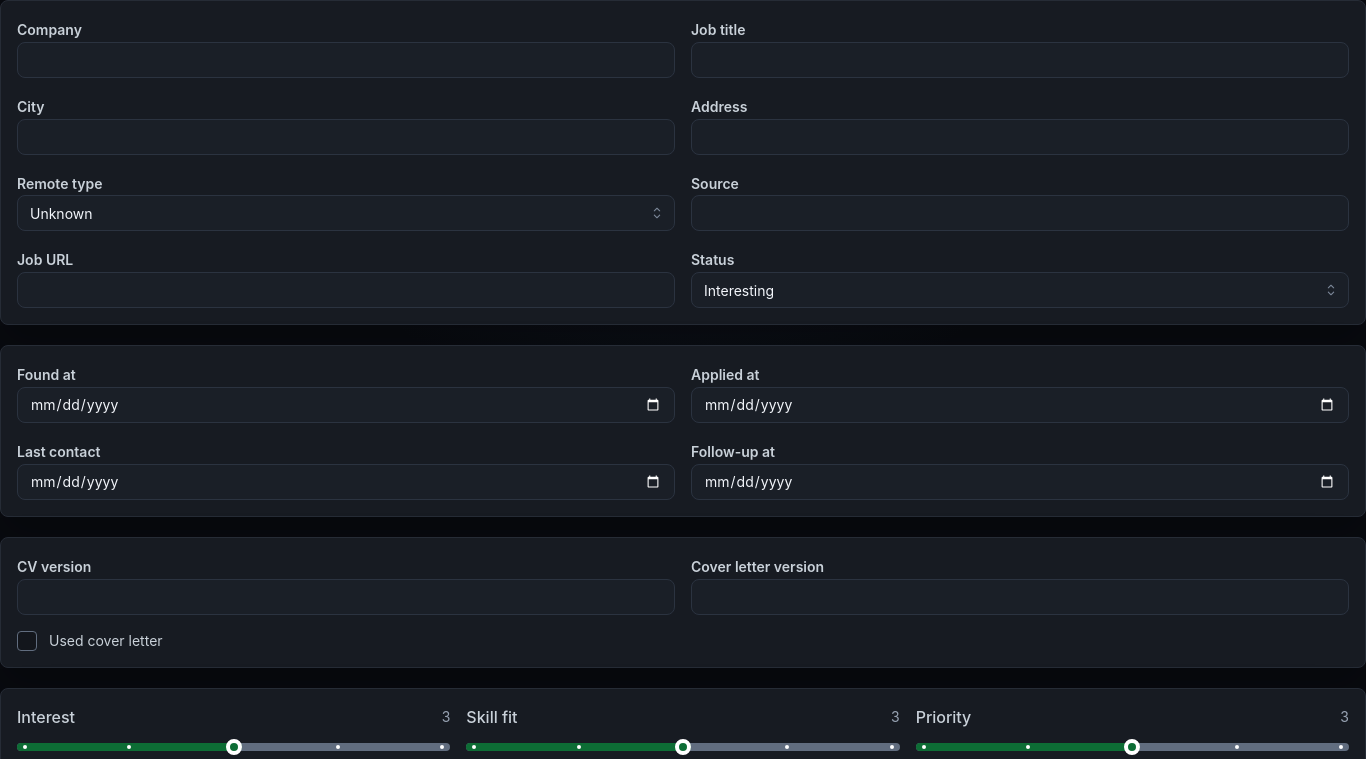
Scenario: ApplicationForm › fills Applied at with today's date when status changes to applied
This screenshot has width=1366, height=759.
Expected: the date field labelled "Applied at" is empty, [691,387,1349,423]
Click the dropdown labelled "Status" at x=1020, y=290, box [691,272,1349,308]
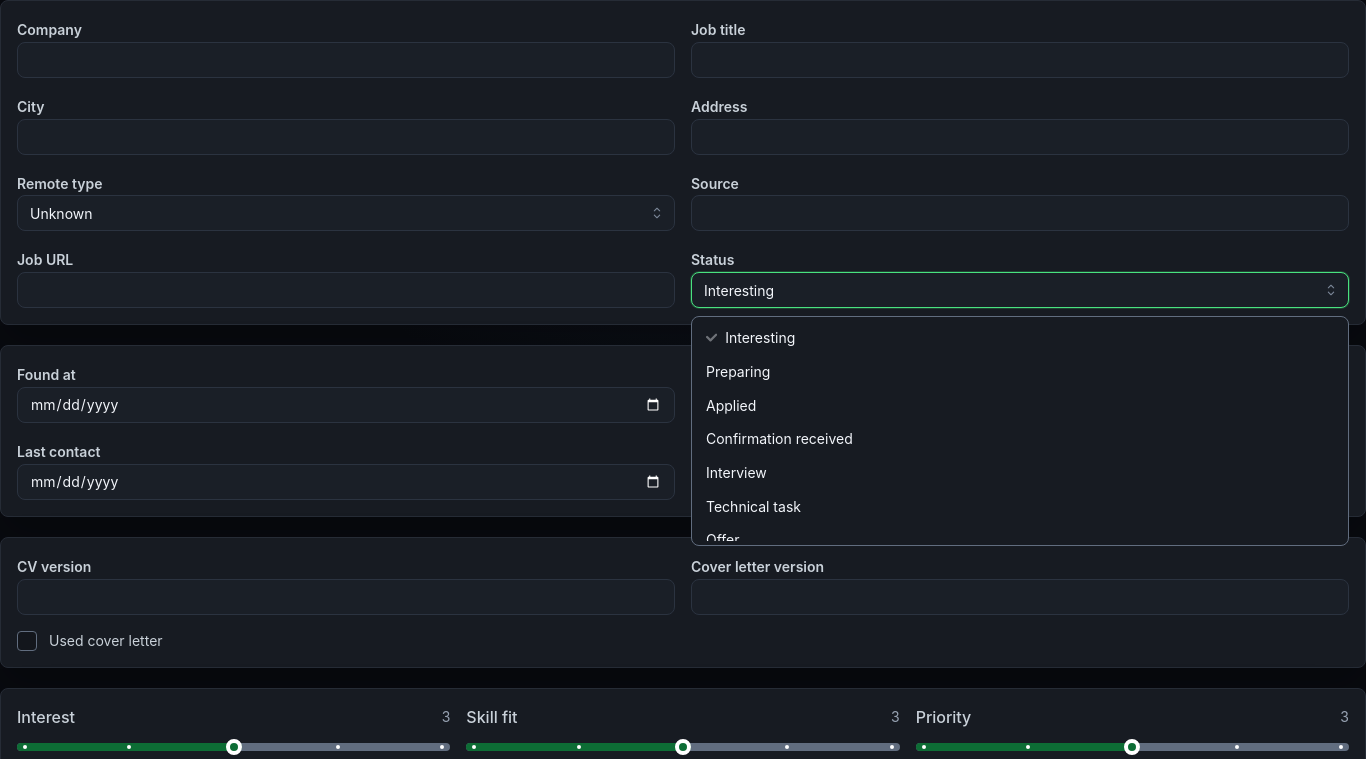
Press Arrowdown Arrowdown Enter
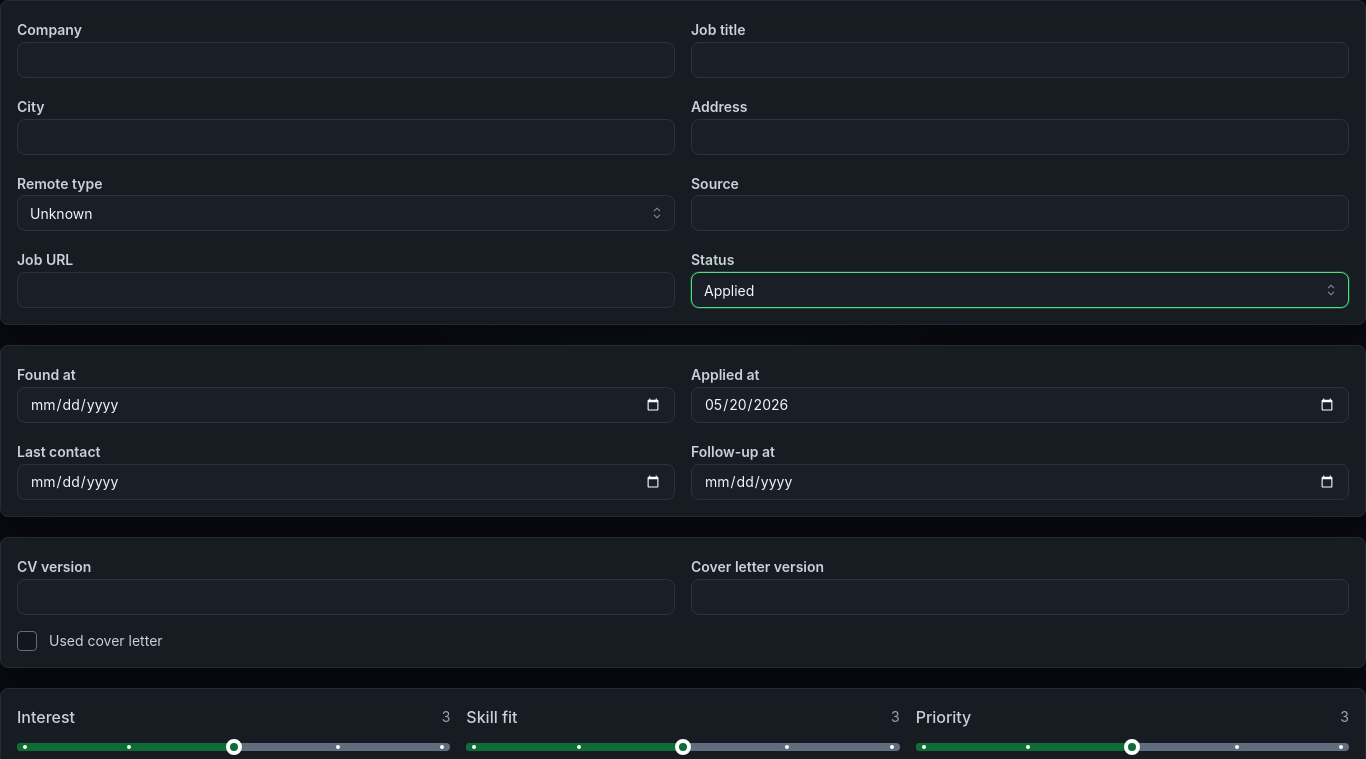
Expected: the date field labelled "Applied at" holds "2026-05-20", [691,387,1349,423]
